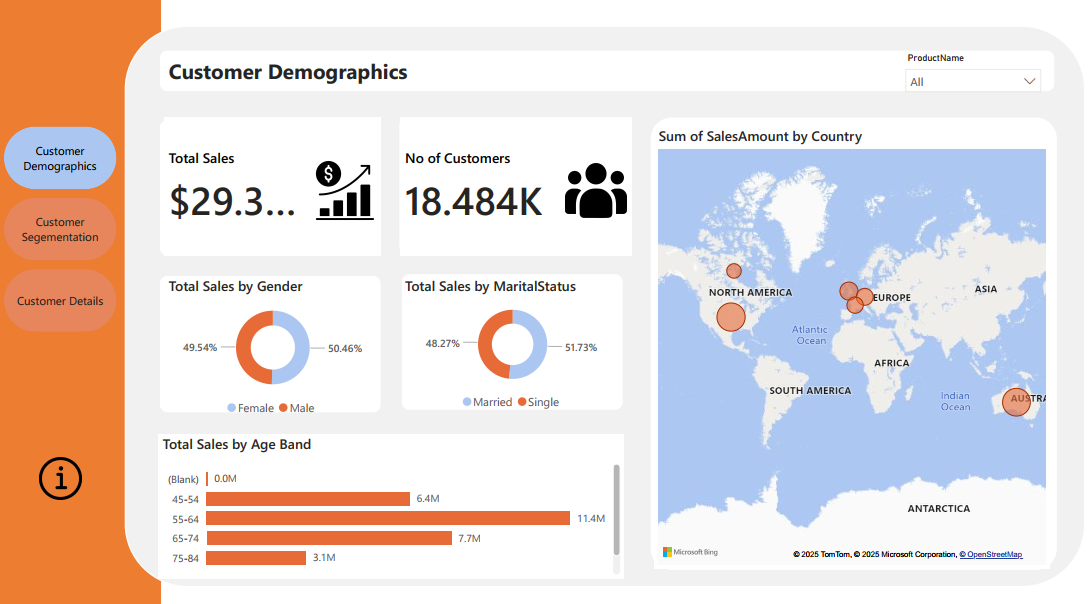

This screenshot's page, from the dashboard's own definition file:
{"tool":"powerbi","page":{"name":"Customer Demographics","canvas":[1280,720],"ordinal":0},"visuals":[{"type":"cardVisual","fields":{"Data":["Sum(FactInternetSales.SalesAmount)"]},"box":[194.9,149.5,252,161.3],"z":0},{"type":"cardVisual","fields":{"Data":["Count(FactInternetSales.CustomerKey)"]},"box":[470.3,149.5,268.8,161.3],"z":1000},{"type":"donutChart","fields":{"Y":["Sum(FactInternetSales.SalesAmount)"],"Category":["DimCustomer.Gender"]},"box":[194.9,336,252,171.3],"z":2000},{"type":"donutChart","fields":{"Y":["Sum(FactInternetSales.SalesAmount)"],"Category":["DimCustomer.MaritalStatus"]},"box":[470,336,260,164],"z":3000},{"type":"clusteredBarChart","title":"Total Sales by Age Band","fields":{"Category":["Age Sort.Age Band"],"Y":["Sum(FactInternetSales.SalesAmount)"]},"box":[188,519,542,168],"z":4000},{"type":"map","title":"Sum of SalesAmount by Country","fields":{"Category":["DimGeography.Country"],"Size":["Sum(FactInternetSales.SalesAmount)"]},"box":[764.6,160.8,460,514.6],"z":5000},{"type":"textbox","box":[194.6,75.4,336.1,41.5],"z":6000},{"type":"slicer","fields":{"Values":["DimProduct.ProductName"]},"box":[1046.9,70,177.7,52.3],"z":7000},{"type":"pageNavigator","box":[8.3,160.6,131.1,239.4],"z":7001},{"type":"image","box":[43.8,523.8,58.8,93.8],"z":7002}]}

Visuals, with their boxes in screenshot pixels (x1, y1, x2, y2), scaled from the page's 1280x720 canvas onto the 1092x604 screenshot:
cardVisual - Sum(FactInternetSales.SalesAmount): select_region(166, 125, 381, 261)
cardVisual - Count(FactInternetSales.CustomerKey): select_region(401, 125, 631, 261)
donutChart - Sum(FactInternetSales.SalesAmount) x DimCustomer.Gender: select_region(166, 282, 381, 426)
donutChart - Sum(FactInternetSales.SalesAmount) x DimCustomer.MaritalStatus: select_region(401, 282, 623, 419)
"Total Sales by Age Band" clusteredBarChart: select_region(160, 435, 623, 576)
"Sum of SalesAmount by Country" map: select_region(652, 135, 1045, 567)
textbox: select_region(166, 63, 453, 98)
slicer - DimProduct.ProductName: select_region(893, 59, 1045, 103)
pageNavigator: select_region(7, 135, 119, 336)
image: select_region(37, 439, 88, 518)
